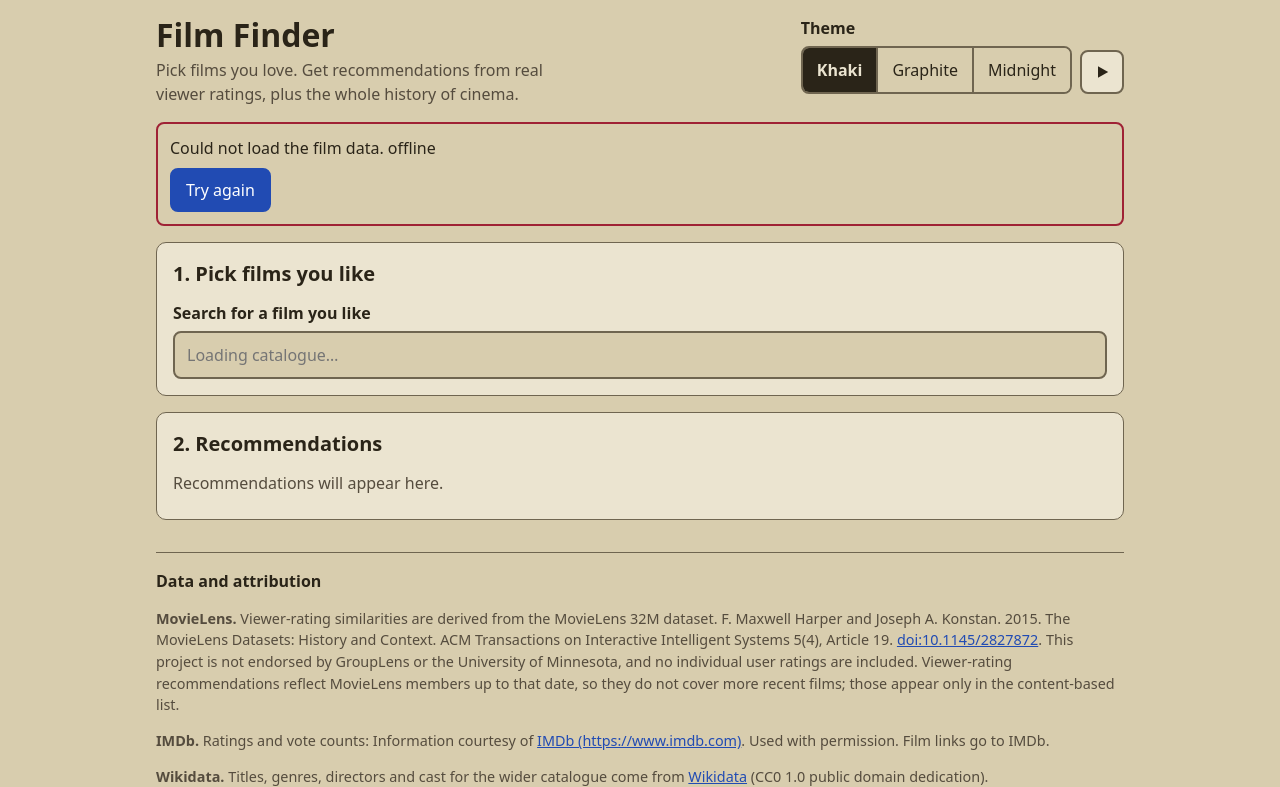
it: App › shows a retryable error when the data is invalid or fails to load
Expected: the message shows "offline", [388, 137, 436, 159]
Click the button "Try again" at coordinates (220, 190), box [170, 168, 271, 212]
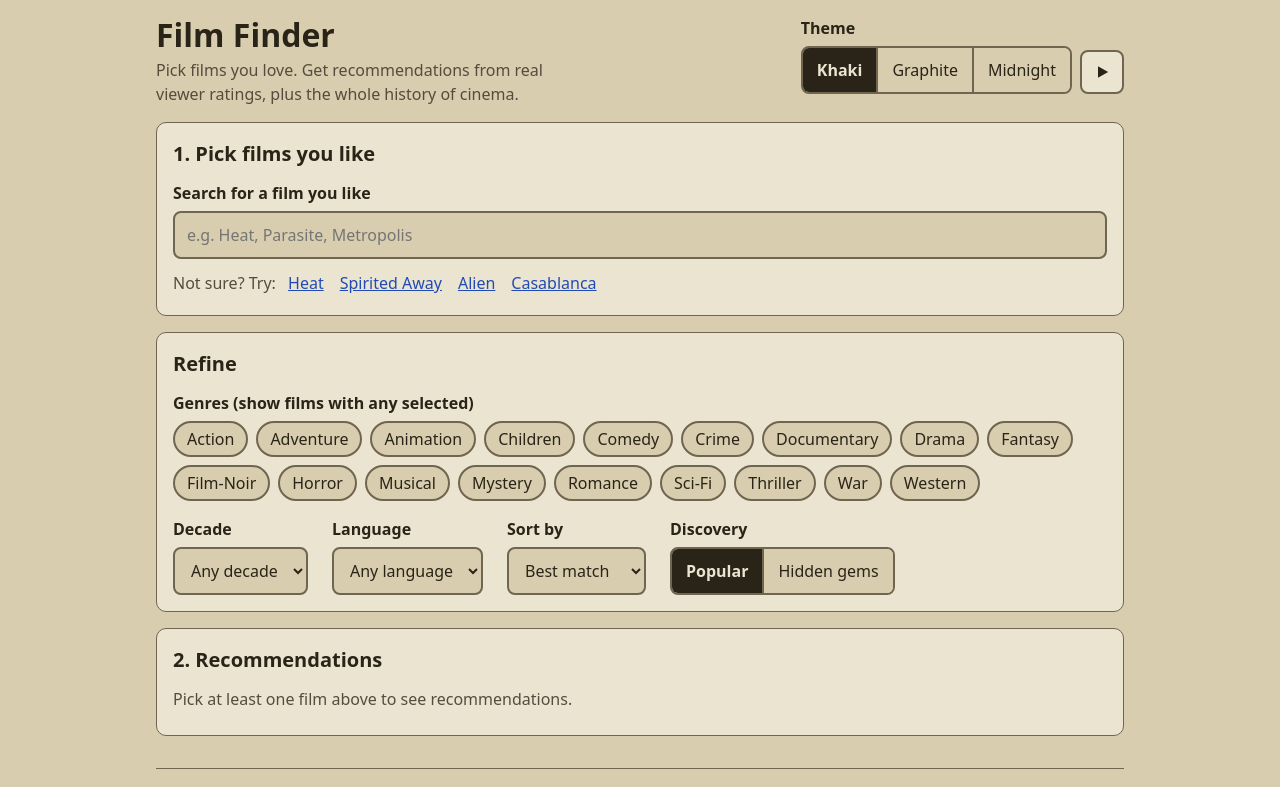
Result: the dropdown labelled "Search for a film you like" is enabled at [173, 211, 1107, 259]
